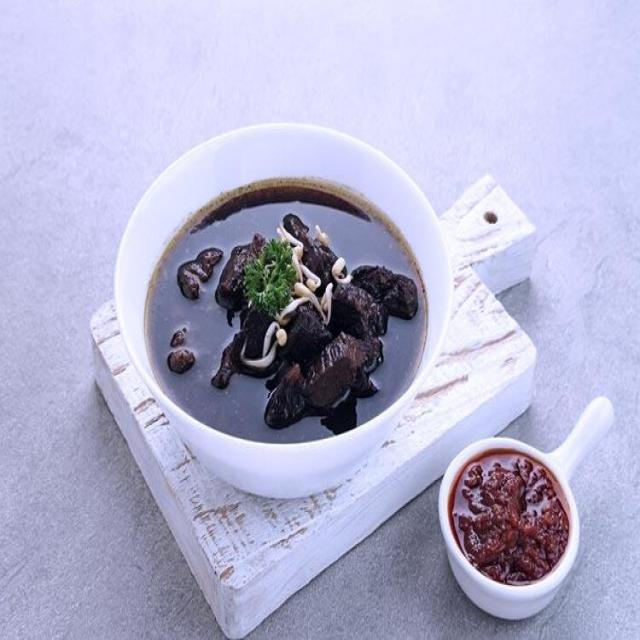Rawon: (152, 171, 424, 428)
